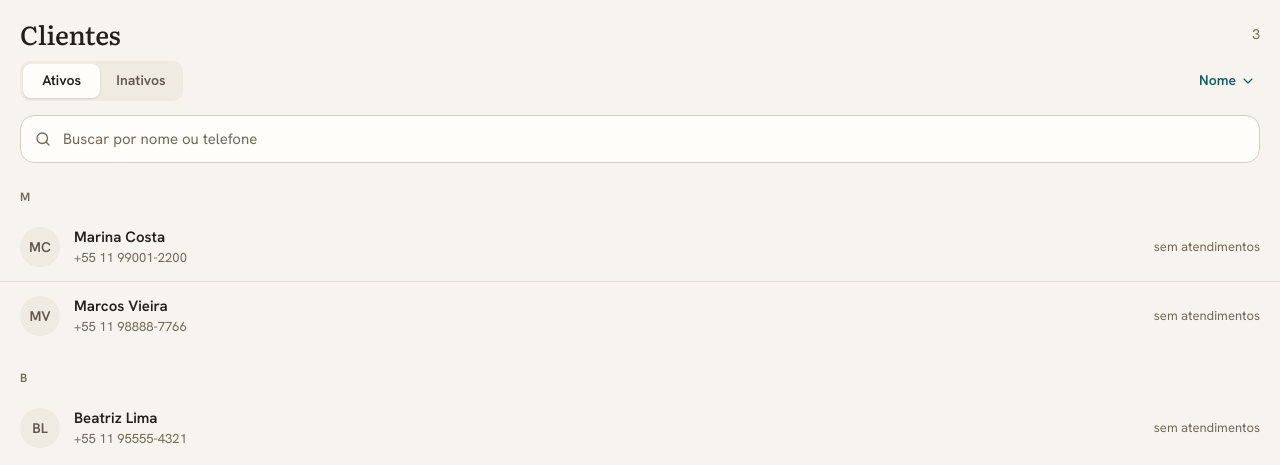
Test: CL3 — Clientes · busca › quando só o telefone casa, nenhum trecho do nome é marcado
The width and height of the screenshot is (1280, 465).
Type "9900" into the search field. click: [640, 139]
box: 20,115 -> 1260,163
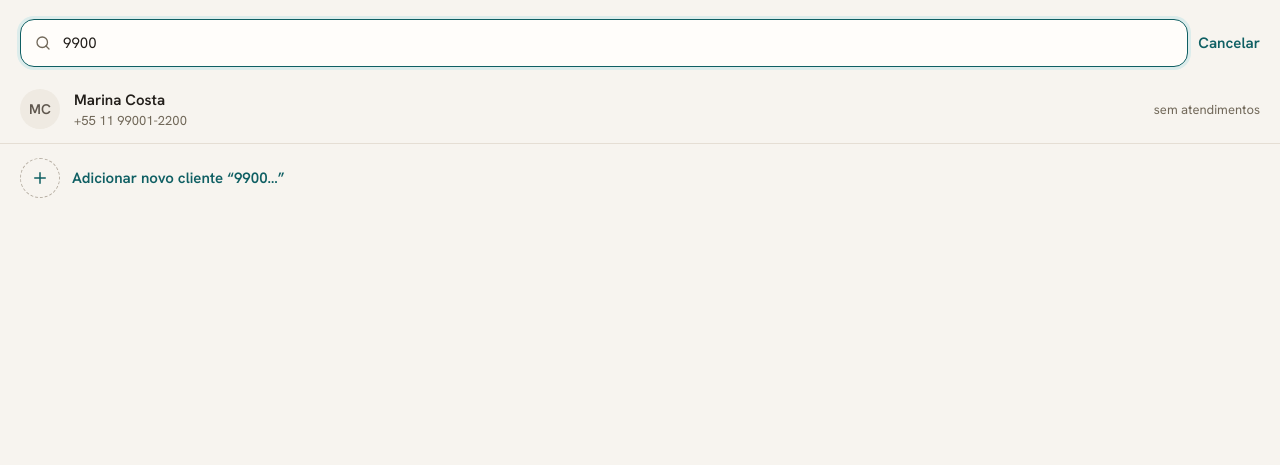
Check: the text "Marina Costa" is shown, box 74,90 -> 165,110
Check: the link "Marcos Vieira" is gone
